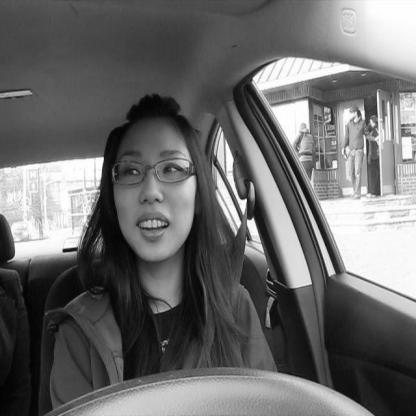seatbelt: (96, 86, 258, 396)
